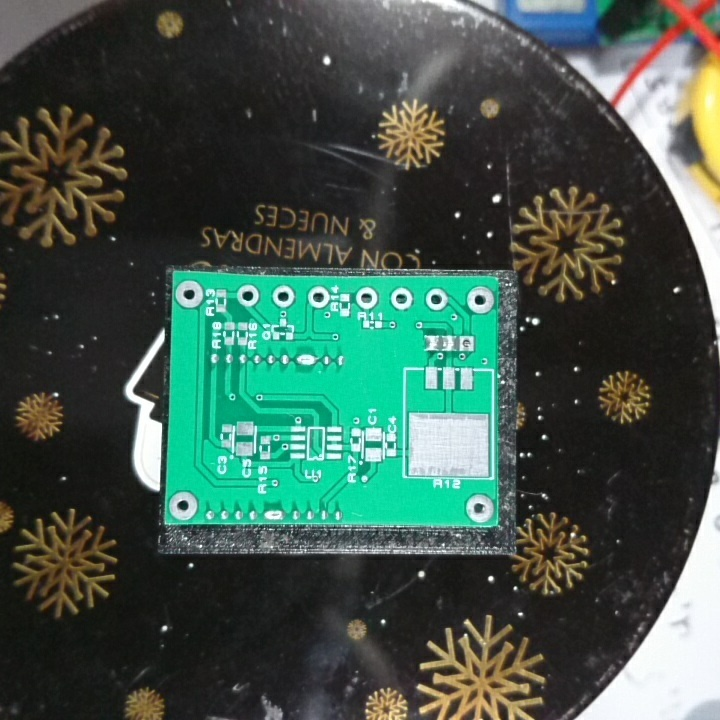F: (167, 487, 199, 523), (173, 278, 206, 312), (464, 490, 493, 524), (464, 285, 496, 315), (388, 283, 415, 316), (421, 284, 449, 313), (304, 283, 330, 314), (269, 282, 296, 310), (354, 283, 380, 312), (236, 281, 261, 311), (458, 333, 479, 356)
P: (293, 349, 319, 374), (261, 506, 290, 526)
